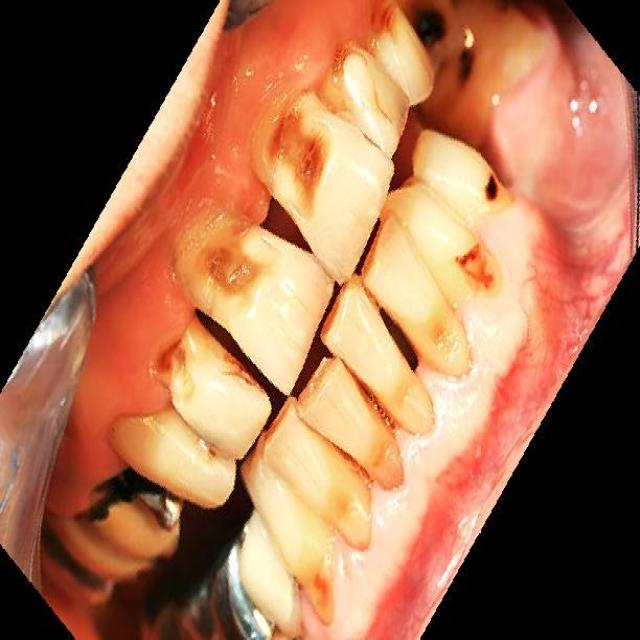caries: (168, 203, 266, 320), (258, 93, 341, 217), (142, 313, 213, 408), (414, 292, 477, 387), (449, 227, 512, 306), (328, 468, 379, 559), (298, 544, 346, 632), (360, 414, 408, 501), (449, 20, 495, 104), (324, 27, 371, 109), (471, 156, 521, 230), (404, 0, 448, 60), (367, 0, 407, 60)
